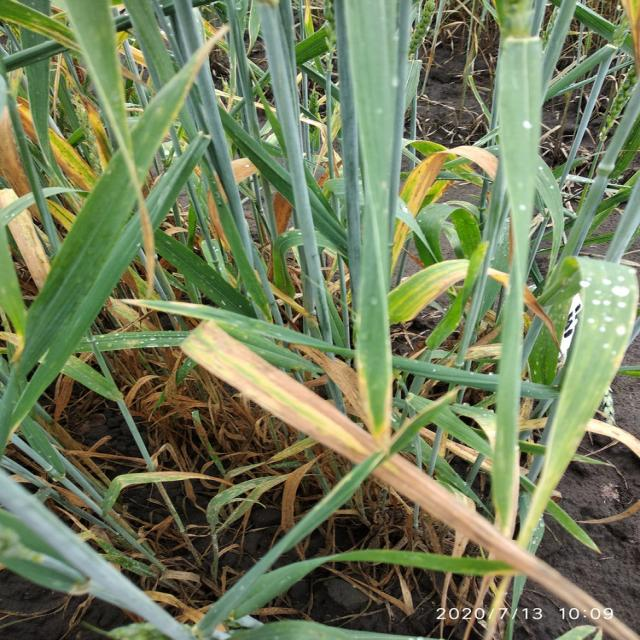wheat-septoria: (180, 321, 382, 467), (371, 453, 541, 571)
